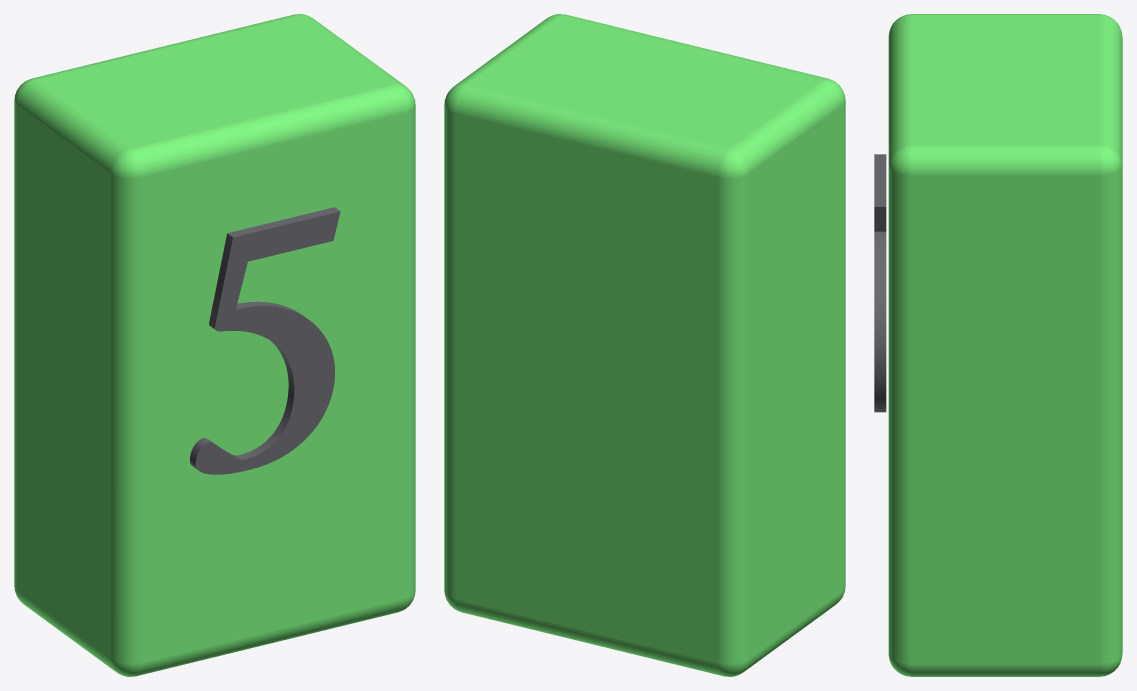
The model's file is pin_5.gltf.
The picture shows the model from 3 angles, left to right: view 1: azimuth 30°, elevation 25°; view 2: azimuth 150°, elevation 25°; view 3: azimuth 270°, elevation 25°; orthographic projection.
Visible parts, largest first — view 1: White, Black; view 2: White; view 3: White, Black.
Boxes of the visible parts, <box> form: White: <box>14,14,415,676</box>; Black: <box>190,207,340,474</box>; White: <box>444,14,845,676</box>; White: <box>888,14,1122,676</box>; Black: <box>874,154,886,412</box>.
Size of the model in its own units: 1.5 by 2.5 by 1.06.
